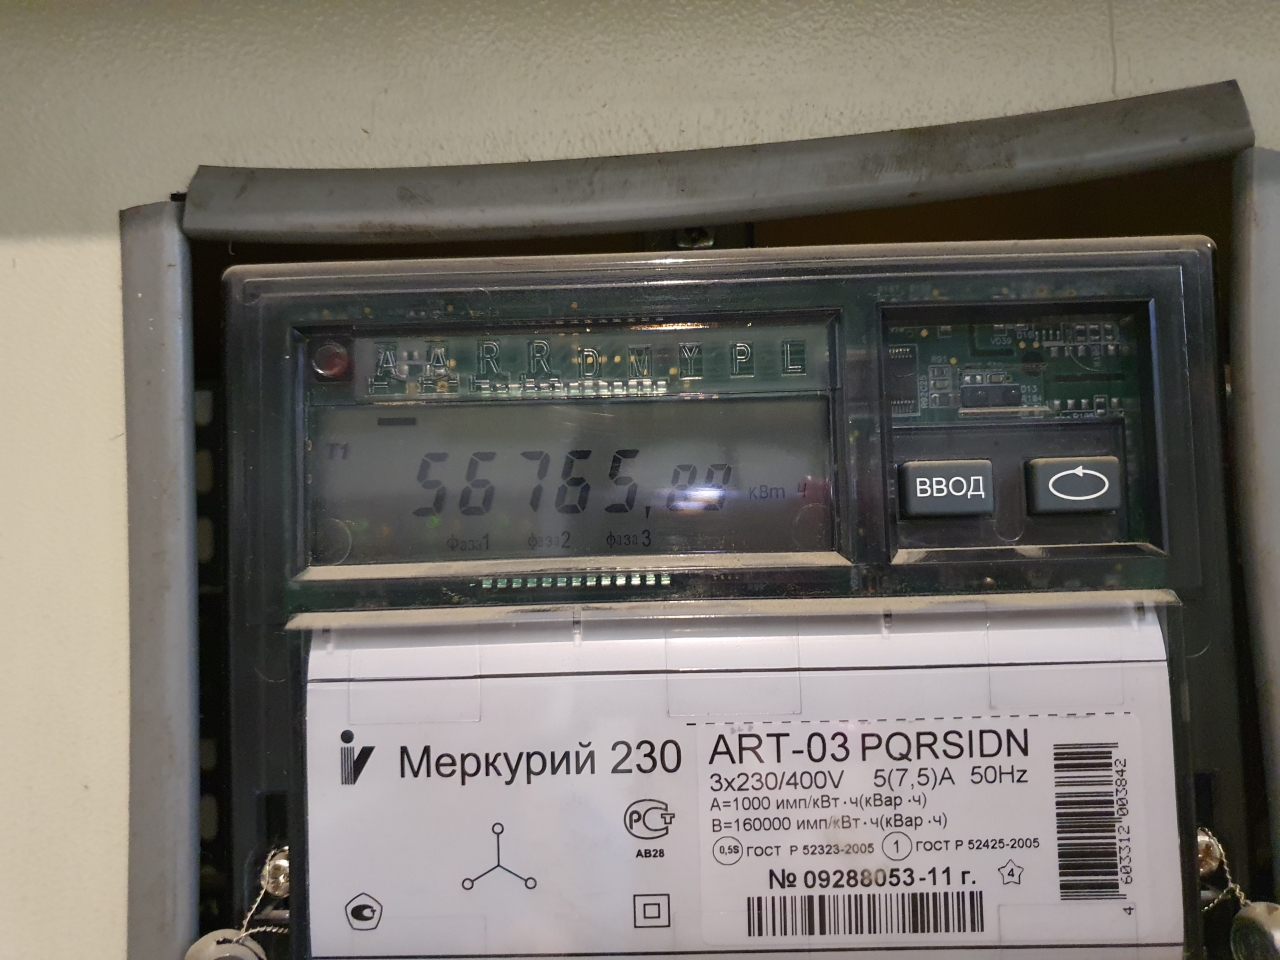screen: (277, 370, 871, 596)
